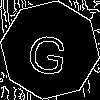G: (25, 25, 71, 77)
